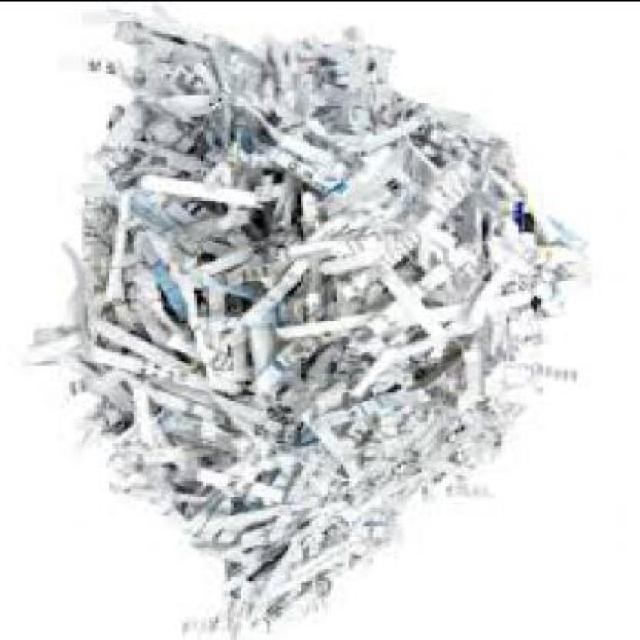PAPER: (25, 13, 603, 638)
